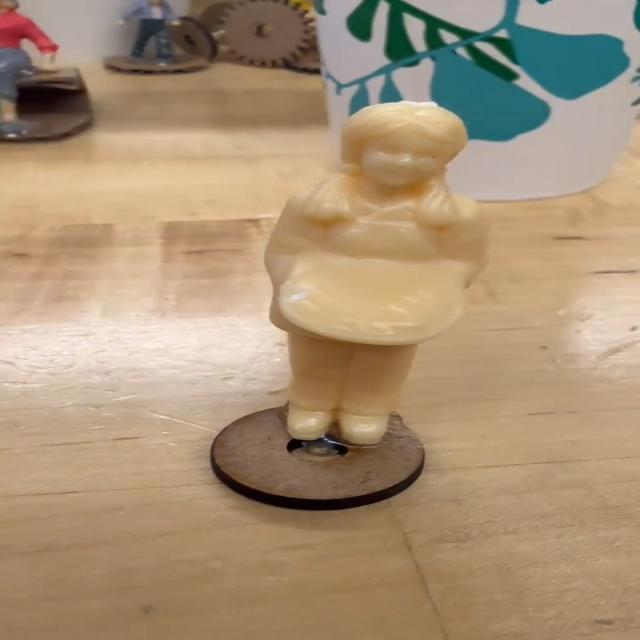Unauthorized: (194, 91, 530, 462)
